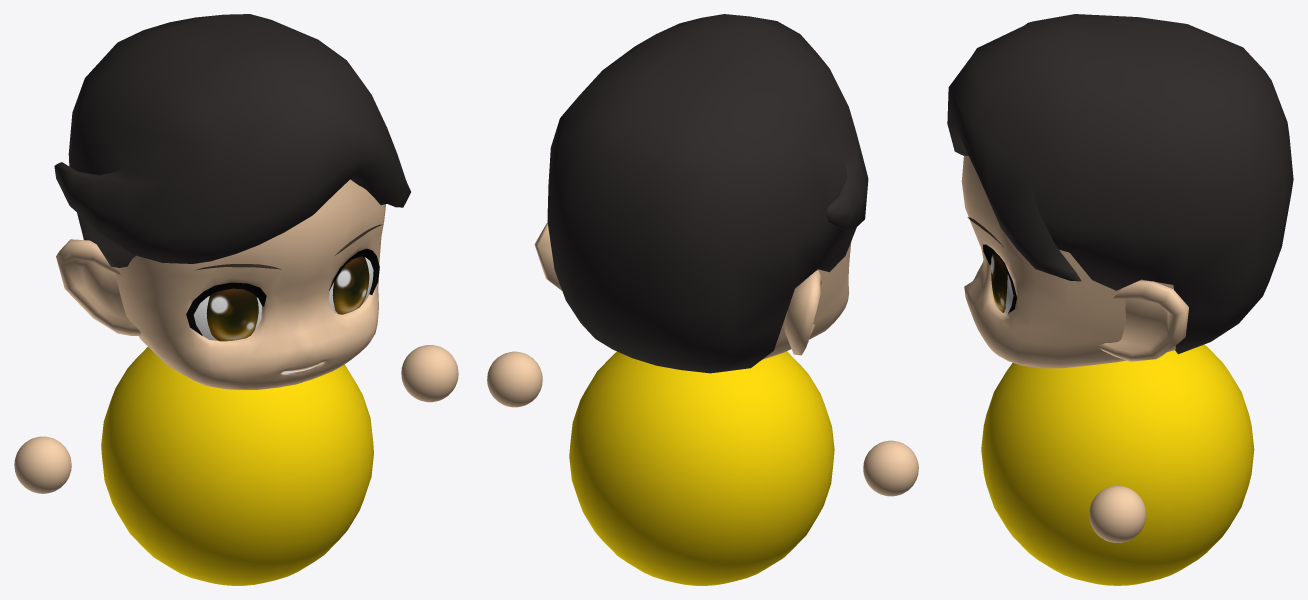
File: dad.glb
3 renders of one model, left to right at view 1: azimuth 30°, elevation 25°; view 2: azimuth 150°, elevation 25°; view 3: azimuth 270°, elevation 25°, orthographic. The views are drawn at different scales.
Visible parts, largest first — view 1: dad.hair, dad, dad.skin, dad.001, right.skin.hand, left.skin.hand; view 2: dad.hair, dad, dad.skin, left.skin.hand, right.skin.hand; view 3: dad.hair, dad, dad.skin, right.skin.hand, dad.001.
Part boxes in pixels (x1,y1,x2,y2): dad.hair: [54, 14, 410, 267]; dad: [101, 224, 382, 585]; dad.skin: [56, 179, 385, 389]; dad.001: [206, 256, 369, 341]; right.skin.hand: [401, 345, 458, 402]; left.skin.hand: [14, 436, 71, 493]; dad.hair: [547, 14, 868, 373]; dad: [569, 160, 847, 585]; dad.skin: [534, 223, 851, 359]; left.skin.hand: [863, 440, 918, 496]; right.skin.hand: [487, 351, 542, 407]; dad.hair: [947, 14, 1293, 354]; dad: [967, 217, 1254, 585]; dad.skin: [961, 155, 1188, 368]; right.skin.hand: [1089, 486, 1146, 542]; dad.001: [991, 253, 1007, 312].
Bounding box in the file's own units: 0.3396 × 0.4043 × 0.2335.
2 materials, 2 textured.
